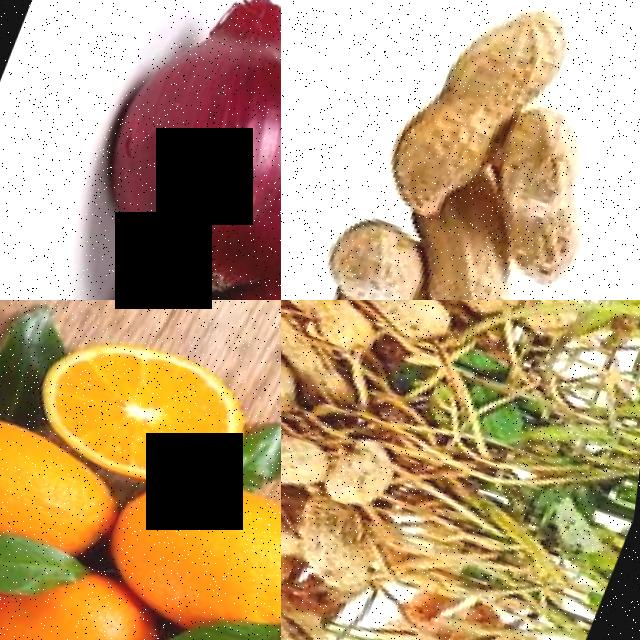onion: (71, 0, 281, 300)
orange: (25, 316, 271, 497), (103, 452, 281, 640), (0, 398, 146, 575), (0, 548, 184, 640)
peanuts: (467, 93, 632, 285), (446, 0, 591, 106), (327, 206, 452, 300), (301, 490, 401, 589), (424, 226, 535, 300), (332, 421, 416, 508), (281, 406, 343, 499), (281, 300, 396, 349), (333, 300, 467, 335)
